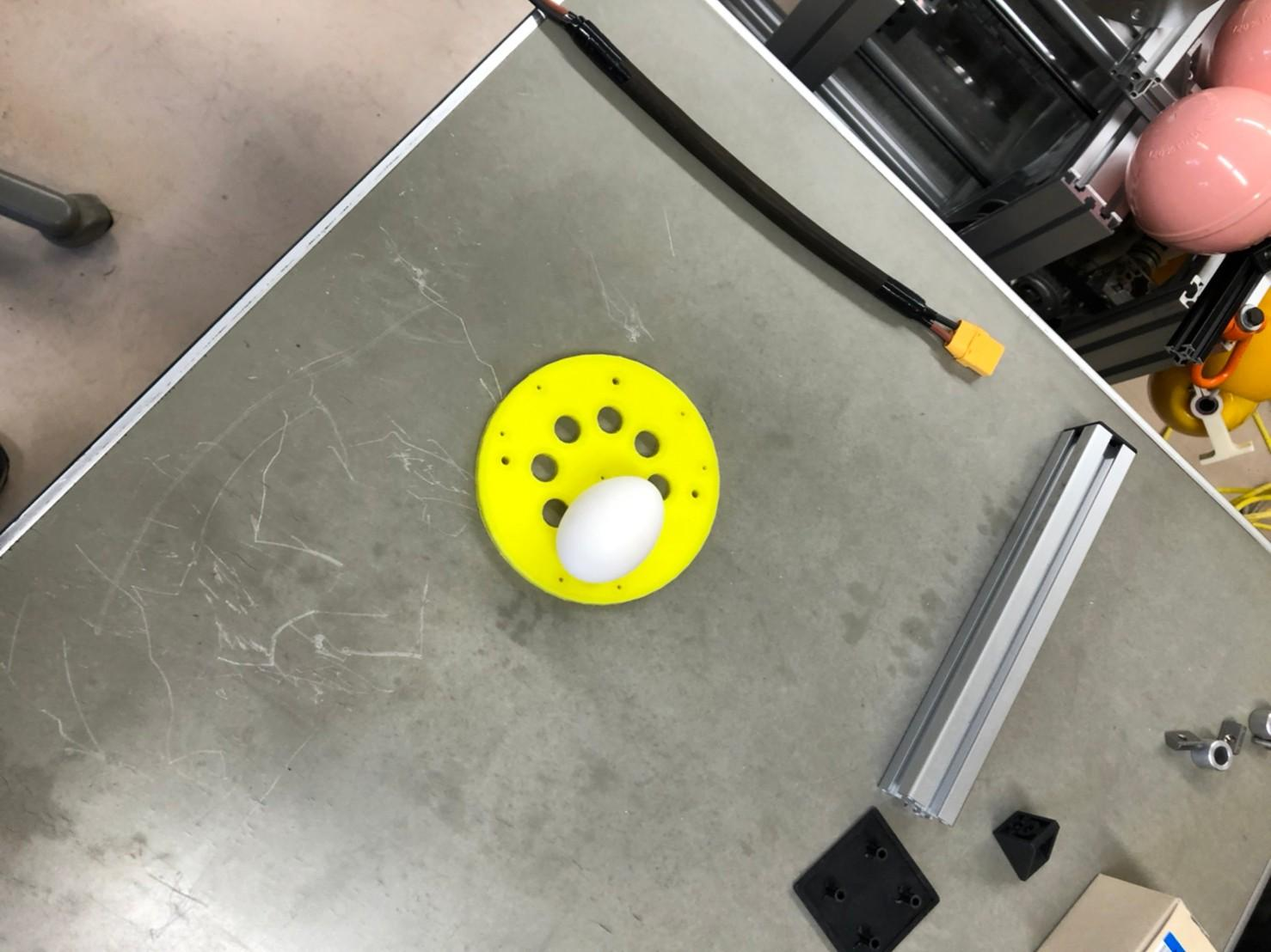egg: (555, 471, 672, 587)
